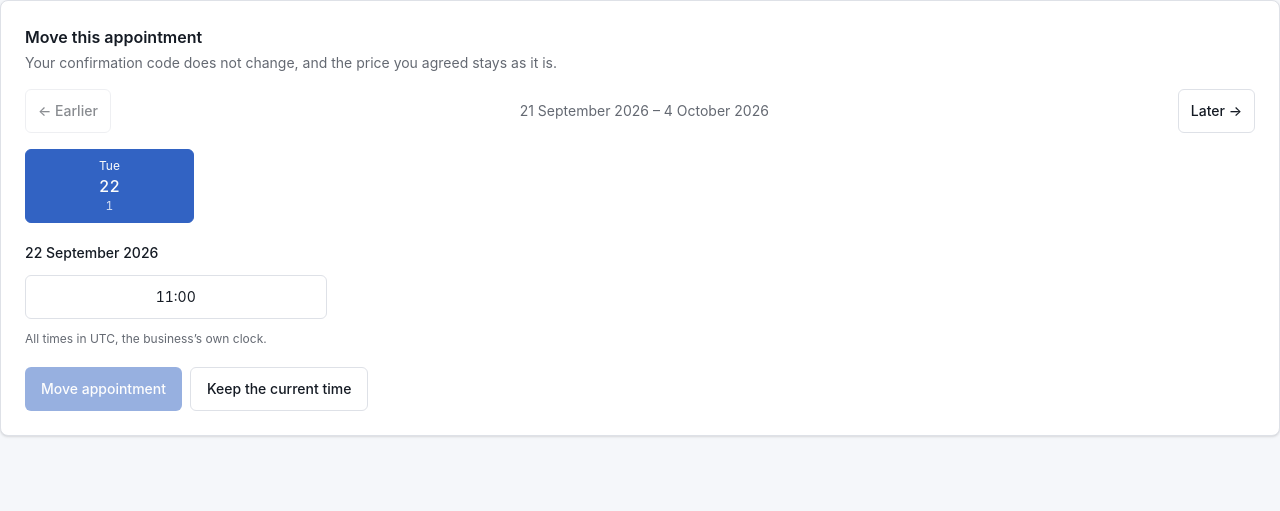
Scenario: the manage page reschedule card, refused › says the appointment has not moved when the time has gone
The image size is (1280, 511).
Click the button "11:00": [176, 297] box [25,275,326,319]
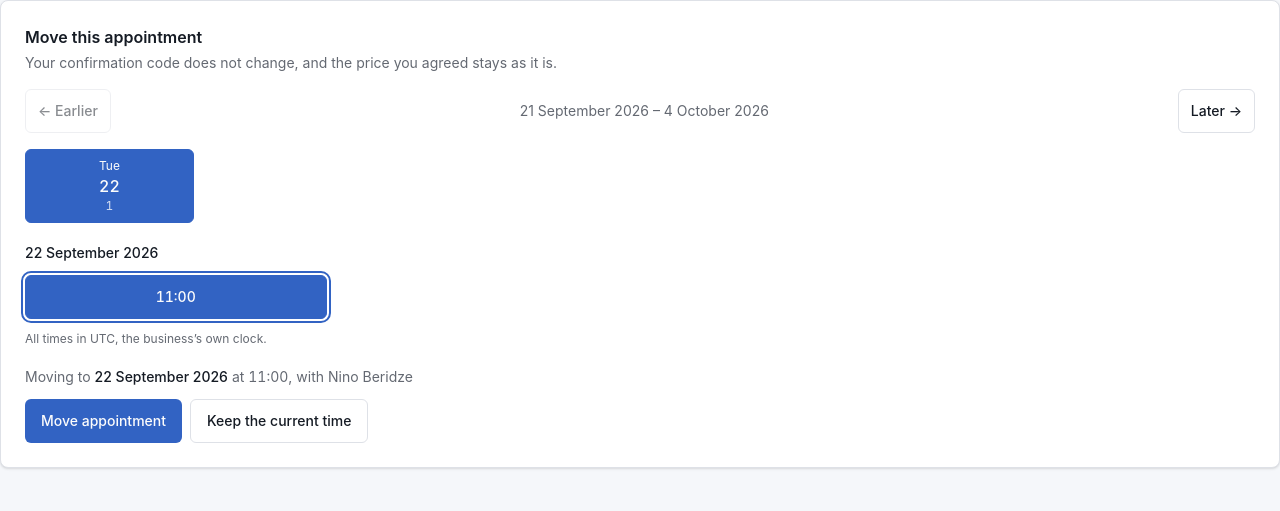
Click the button "Move appointment": [104, 421] box [25,399,182,443]
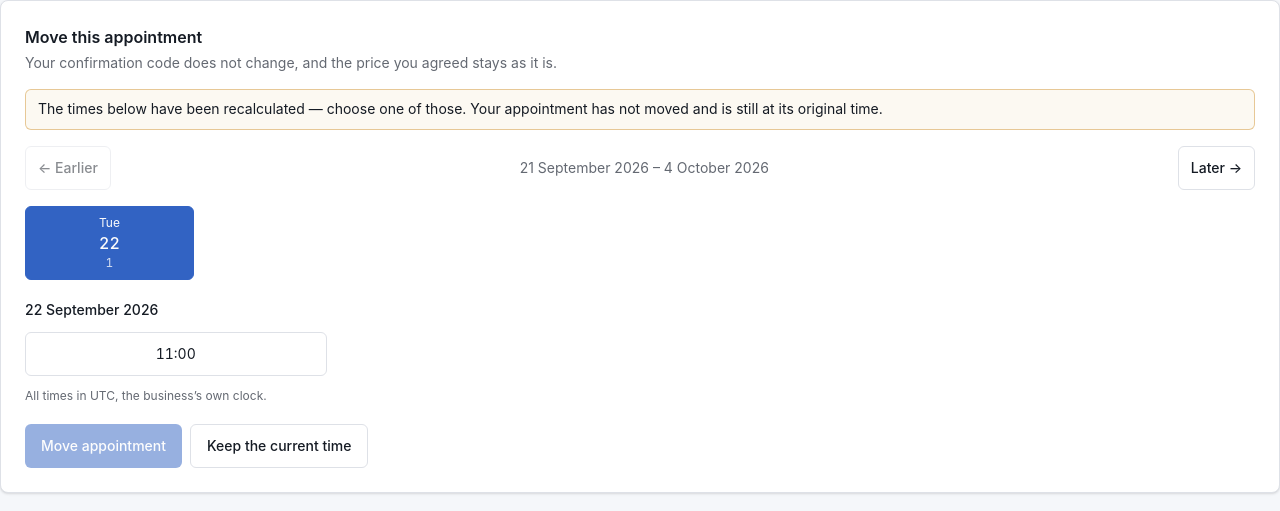
expect the message shows "has not moved": met, box [38,100,883,117]
expect the message shows "still at its original time": met, box [38,100,883,117]
